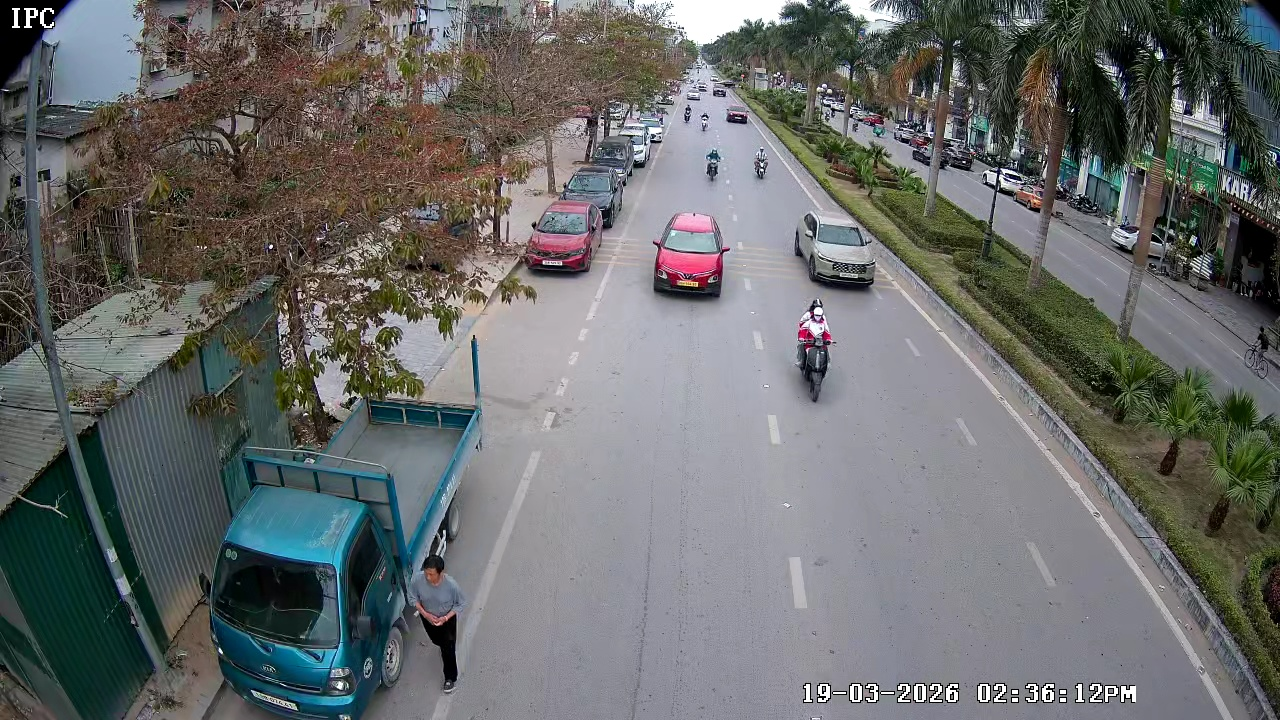car: (651, 211, 729, 299), (793, 210, 877, 288), (525, 200, 598, 276), (561, 167, 620, 227)
motorbike: (790, 298, 836, 398), (752, 147, 771, 181), (705, 148, 722, 183), (701, 112, 712, 132)
